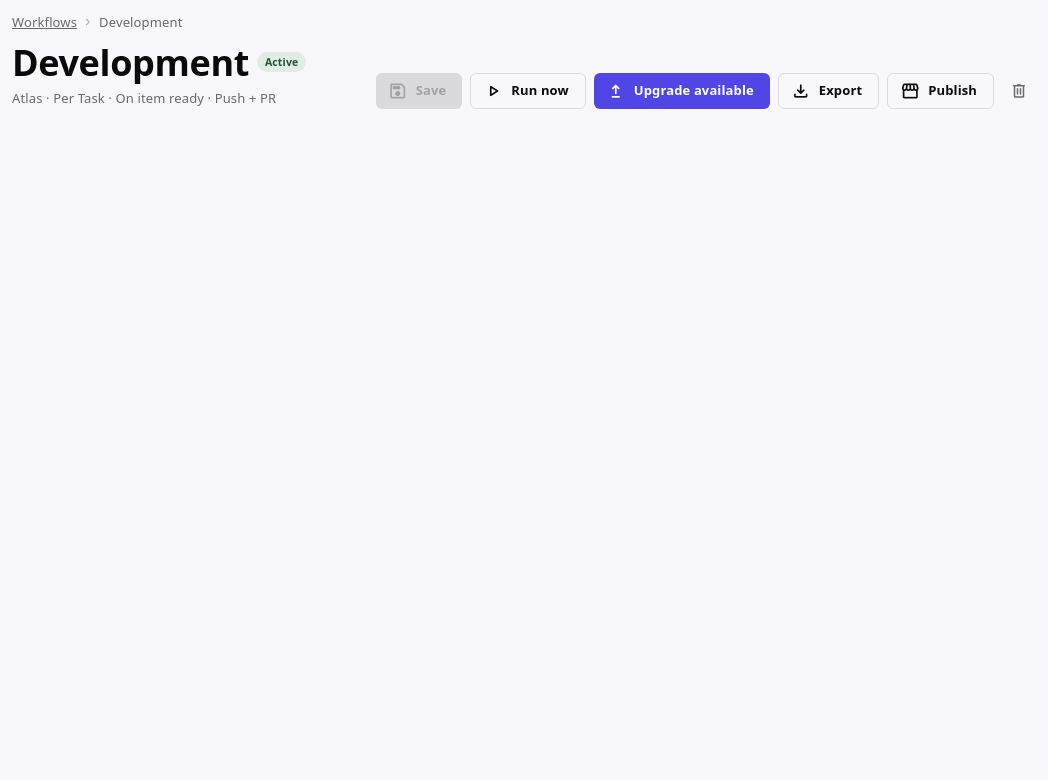
Scenario: WorkflowHeader Upgrade › upgrades from the marketplace and says so
The image size is (1048, 780).
Click the button "Upgrade available": [682, 91] box [594, 73, 770, 109]
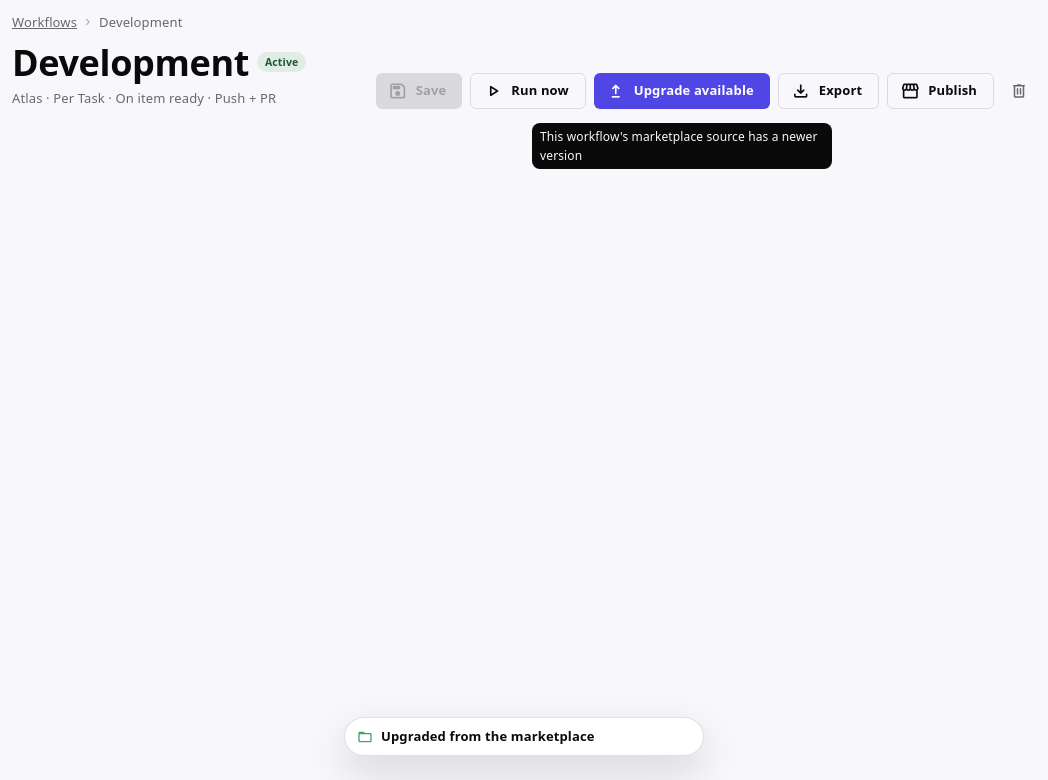
Expected: the text "Upgraded from the marketplace" is shown, [381, 727, 594, 745]
